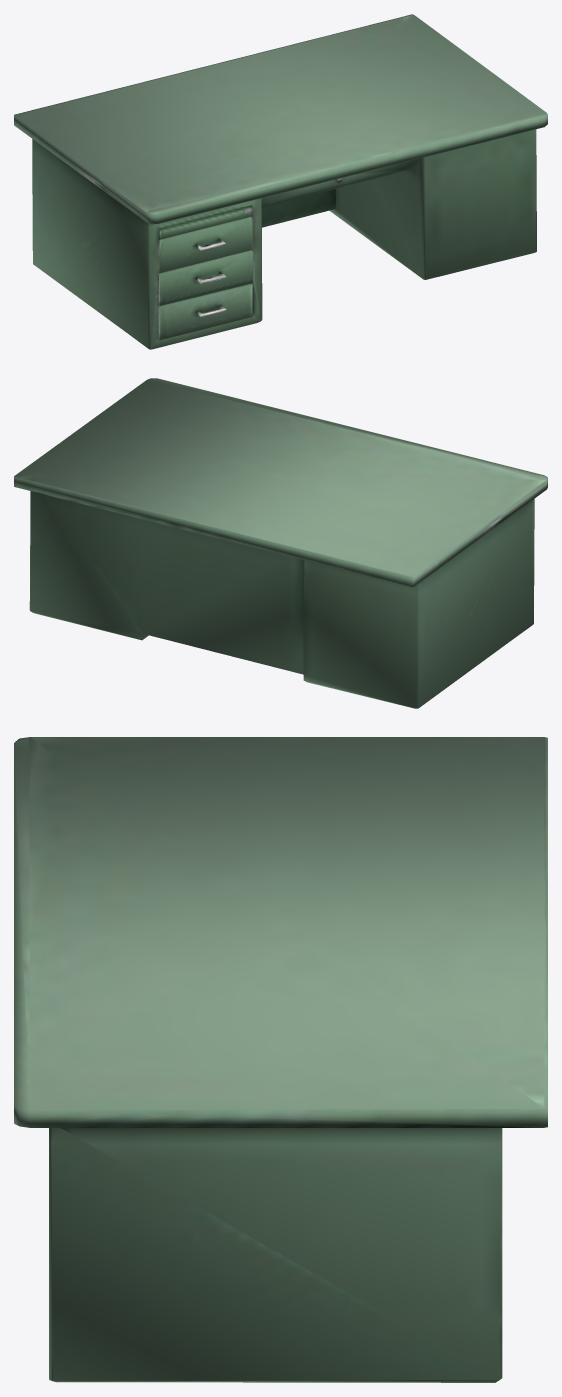
The model's file is sci_desk.fbx.
3 views of the same model, one above another, from view 1: azimuth 30°, elevation 25°; view 2: azimuth 150°, elevation 25°; view 3: azimuth 270°, elevation 25° (orthographic). The views are drawn at different scales.
Parts seen in each view (by area): view 1: tripo_node_4f5332bb.005; view 2: tripo_node_4f5332bb.005; view 3: tripo_node_4f5332bb.005.
Boxes of the visible parts, <box> form: tripo_node_4f5332bb.005: <box>14,14,547,349</box>; tripo_node_4f5332bb.005: <box>14,378,547,708</box>; tripo_node_4f5332bb.005: <box>14,737,547,1382</box>.
Bounding box in the file's own units: 280 × 98.78 × 167.
